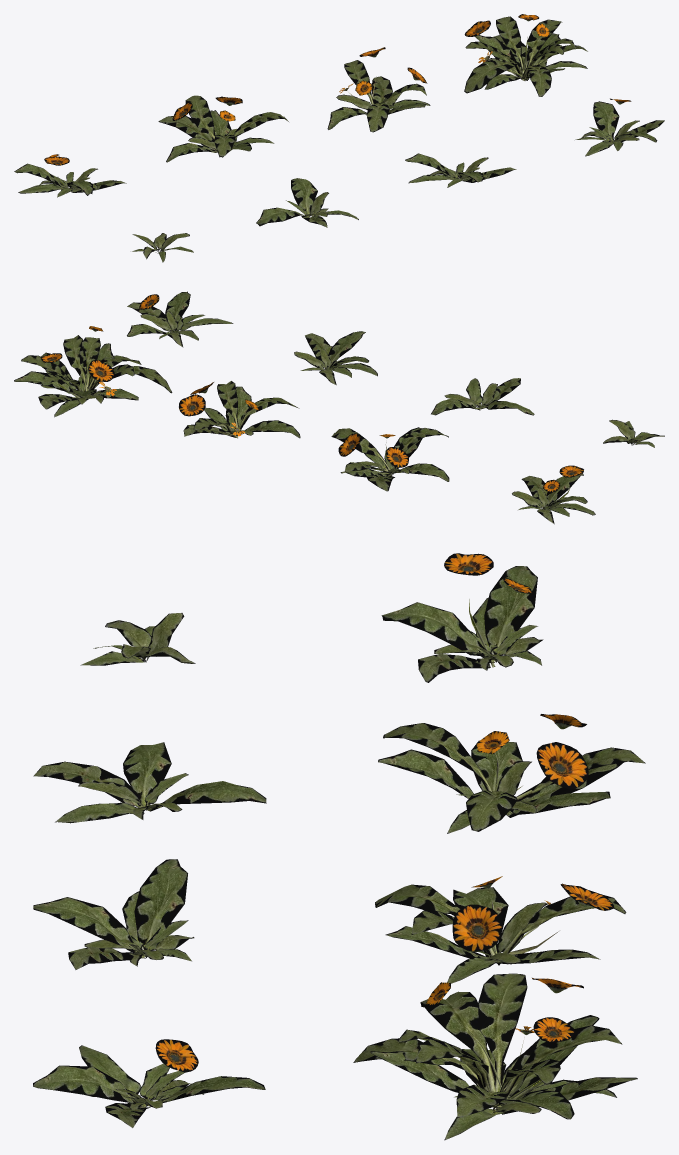
The model's file is flower_gazania.glb.
3 views of the same model, one above another, from view 1: azimuth 30°, elevation 25°; view 2: azimuth 150°, elevation 25°; view 3: azimuth 270°, elevation 25° (orthographic). The views are drawn at different scales.
Parts seen in each view (by area): view 1: flower_gazania_a_LOD0; view 2: flower_gazania_a_LOD0; view 3: flower_gazania_a_LOD0.
Part boxes in pixels (x1=…): flower_gazania_a_LOD0: x1=14, y1=14, x2=664, y2=262; flower_gazania_a_LOD0: x1=14, y1=291, x2=664, y2=524; flower_gazania_a_LOD0: x1=33, y1=553, x2=645, y2=1140.
Bounding box in the file's own units: 1.48 × 0.1655 × 0.7015.
1 material, 1 textured.
